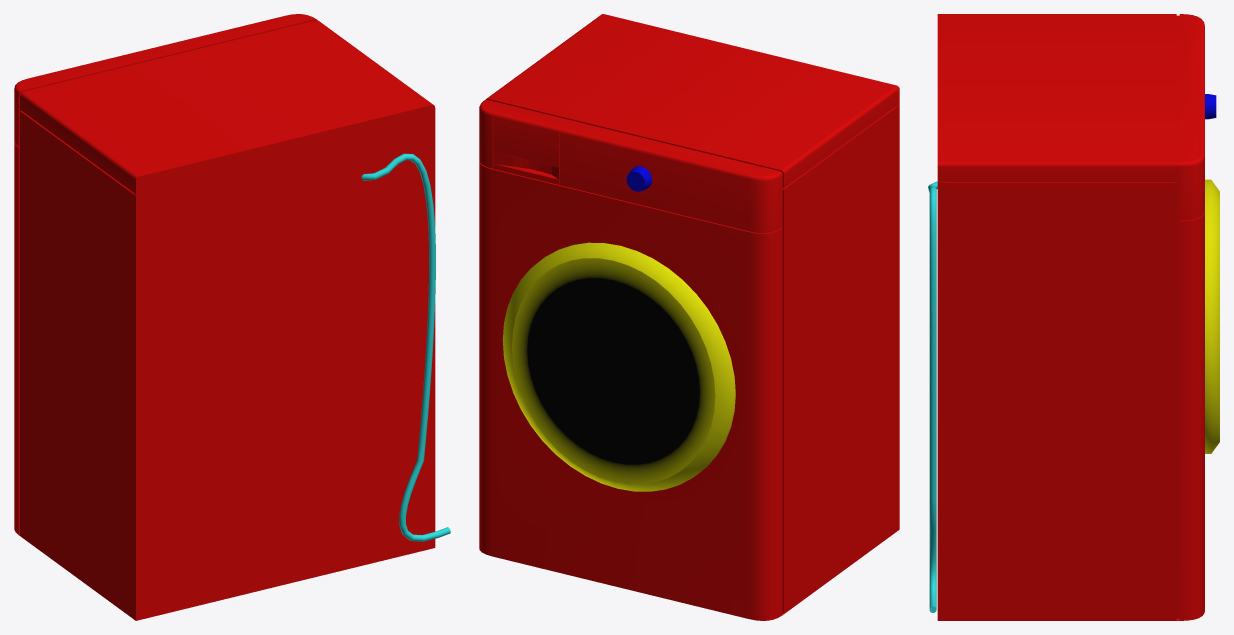
Rendered from Washing machine.FBX.
3 views of the same model, side by side, from view 1: azimuth 30°, elevation 25°; view 2: azimuth 150°, elevation 25°; view 3: azimuth 270°, elevation 25° (orthographic). The views are drawn at different scales.
Parts seen in each view (by area): view 1: Cylinder004; view 2: Cylinder004; view 3: Cylinder004.
Boxes of the visible parts, <box> form: Cylinder004: <box>14,14,450,620</box>; Cylinder004: <box>479,14,899,620</box>; Cylinder004: <box>928,14,1219,620</box>.
Bounding box in the file's own units: 24.55 × 33.46 × 19.35.
